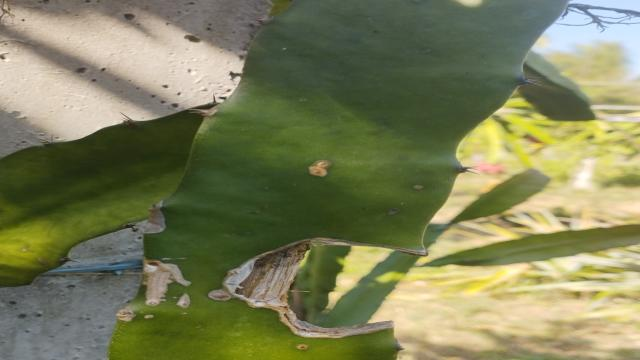stemcanker: (305, 155, 333, 181), (205, 285, 234, 305), (406, 180, 427, 195), (288, 341, 312, 354)
